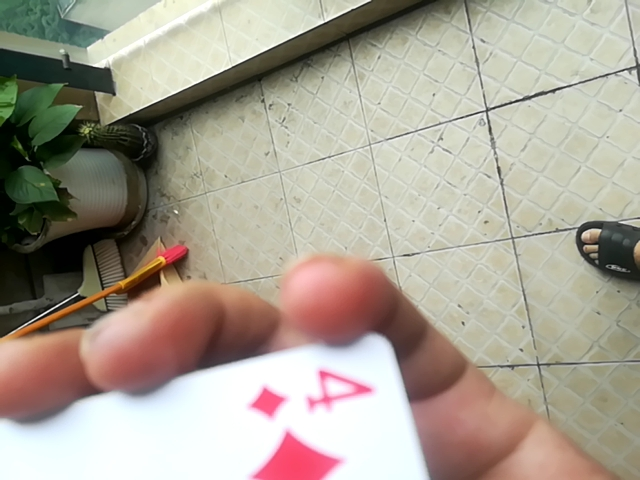fk 4: (0, 326, 461, 476)
